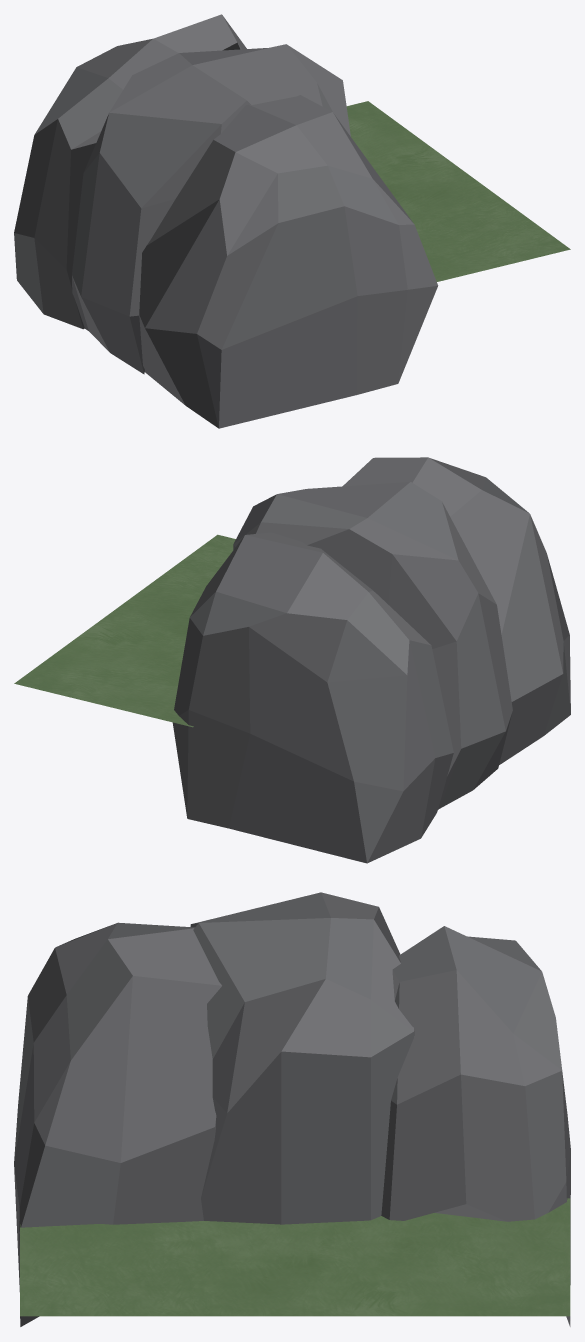
Rendered from Cliffs_Edge_West.glb.
3 views of the same model, one above another, from view 1: azimuth 30°, elevation 25°; view 2: azimuth 150°, elevation 25°; view 3: azimuth 270°, elevation 25° (orthographic). The views are drawn at different scales.
Parts seen in each view (by area): view 1: Rock.010; view 2: Rock.010; view 3: Rock.010.
Boxes of the visible parts, bbox=[...] form: Rock.010: bbox=[14, 14, 570, 428]; Rock.010: bbox=[14, 457, 570, 863]; Rock.010: bbox=[14, 892, 570, 1326].
Bounding box in the file's own units: 1.11 × 0.7061 × 1.01.
2 materials, 1 textured.
